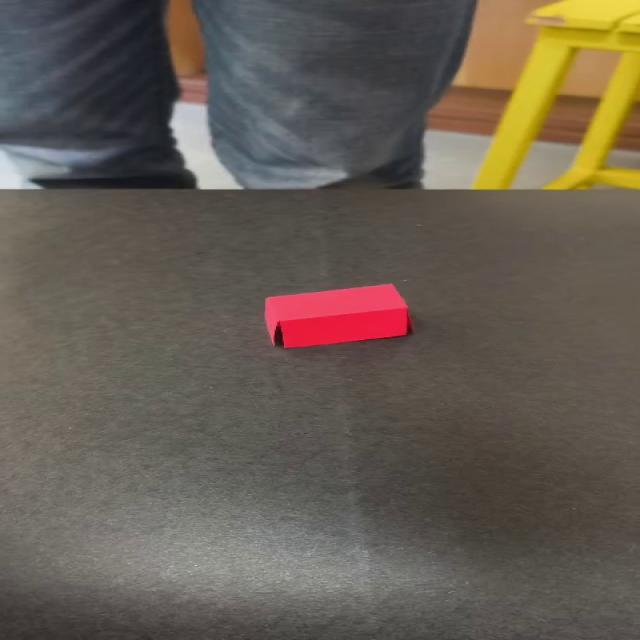red block: (262, 282, 410, 348)
